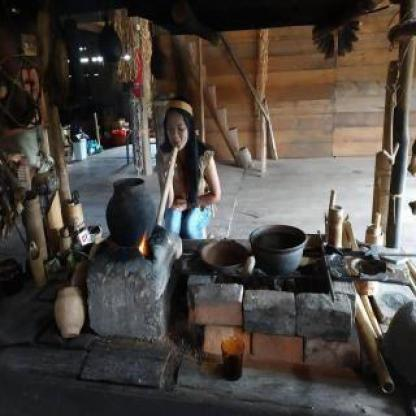fire: (135, 226, 151, 256)
